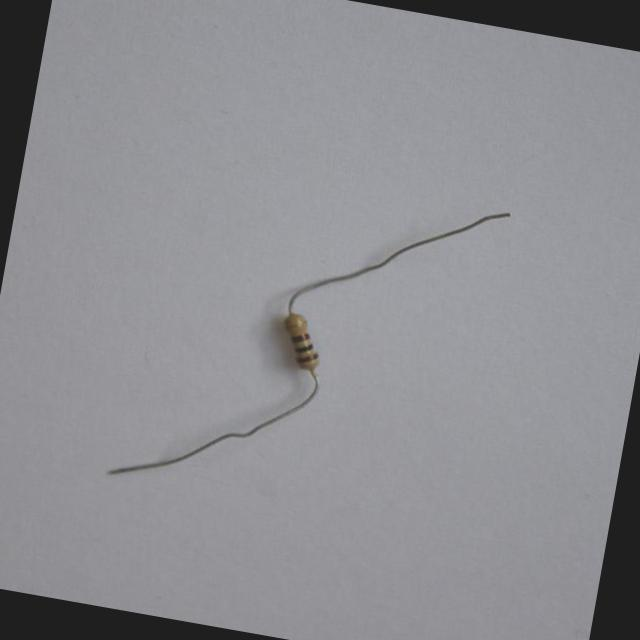Resistor: (279, 314, 327, 378)
black: (293, 342, 313, 351)
brown: (297, 352, 317, 362), (289, 332, 310, 341)
gold: (285, 319, 305, 327)
